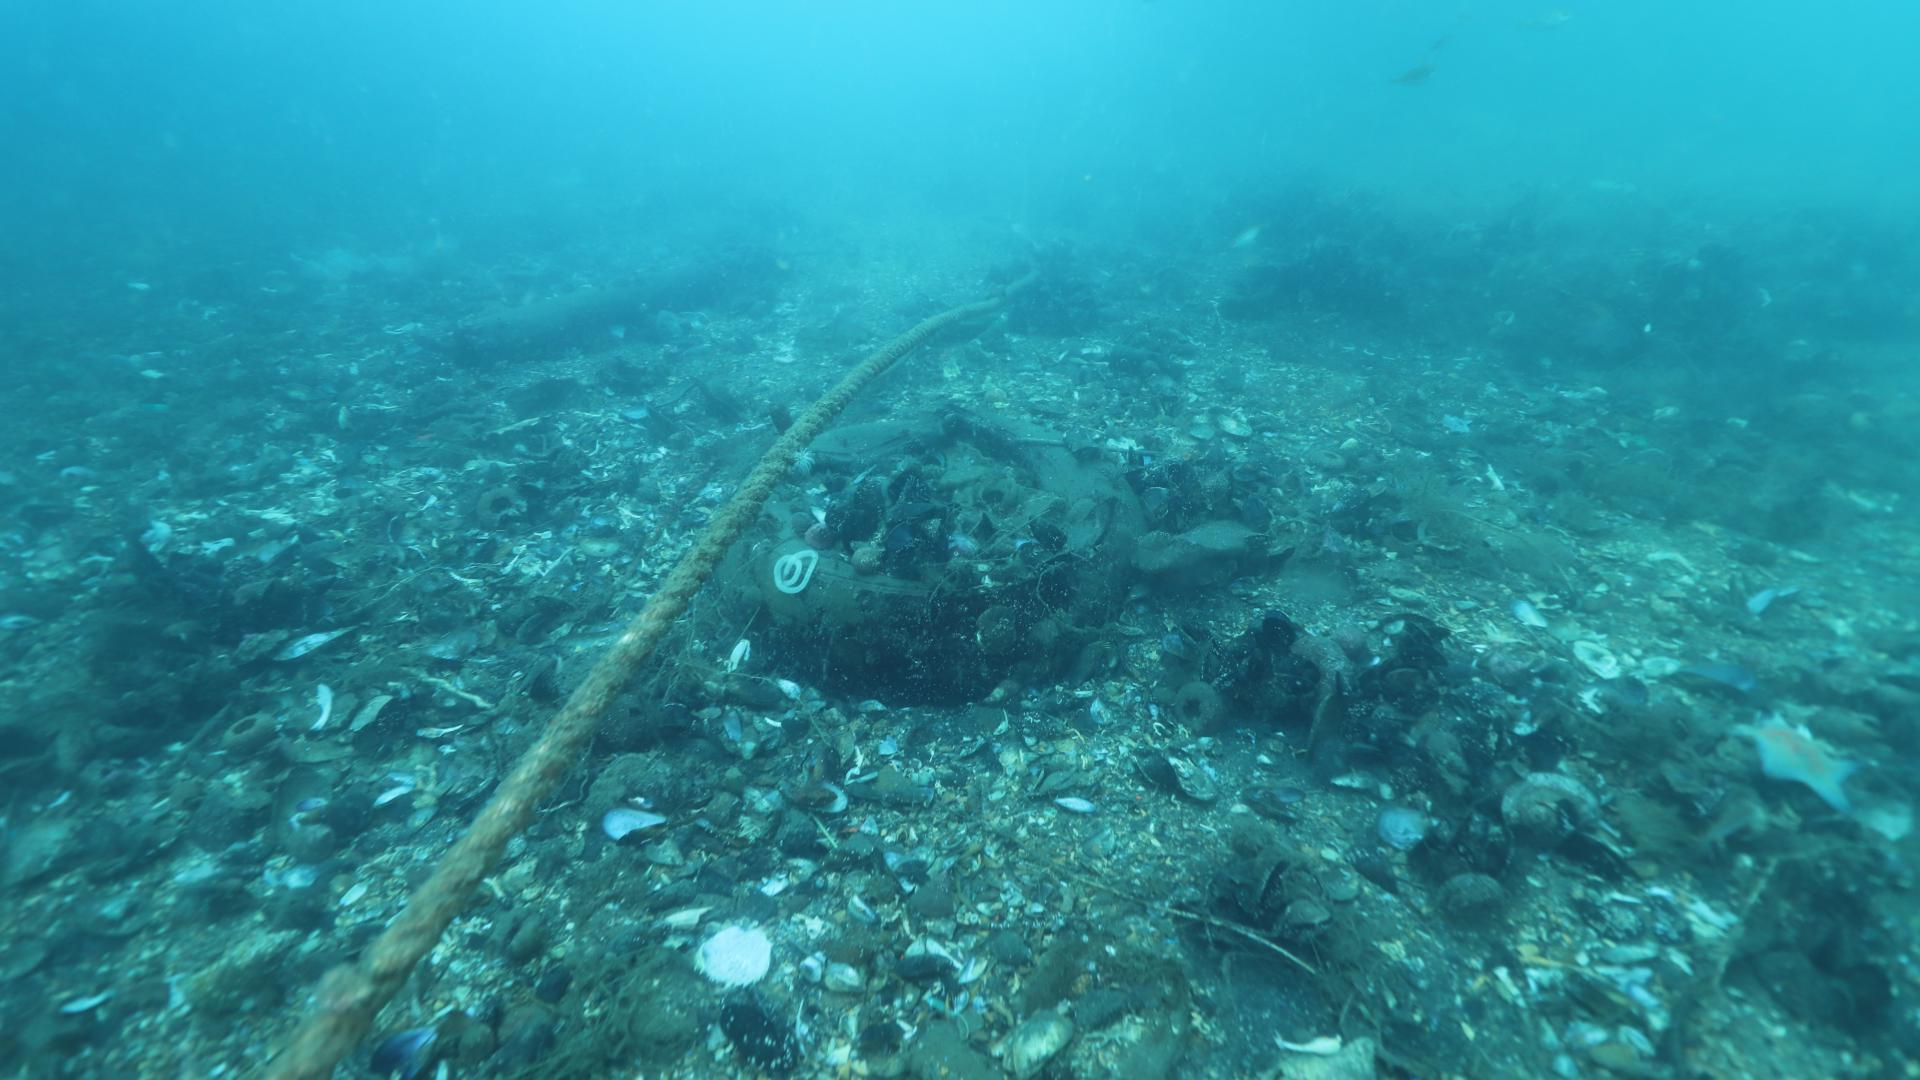rope: (253, 305, 986, 1080)
